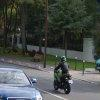Motorcycle: (45, 57, 76, 93)
